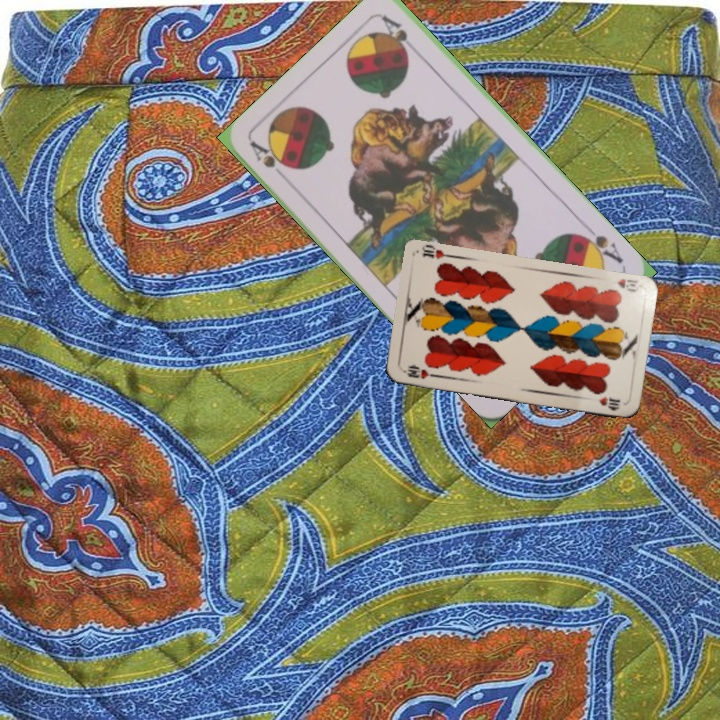H10: (399, 362, 439, 381), (613, 274, 644, 295)
SA: (574, 221, 626, 266), (246, 137, 293, 185)
